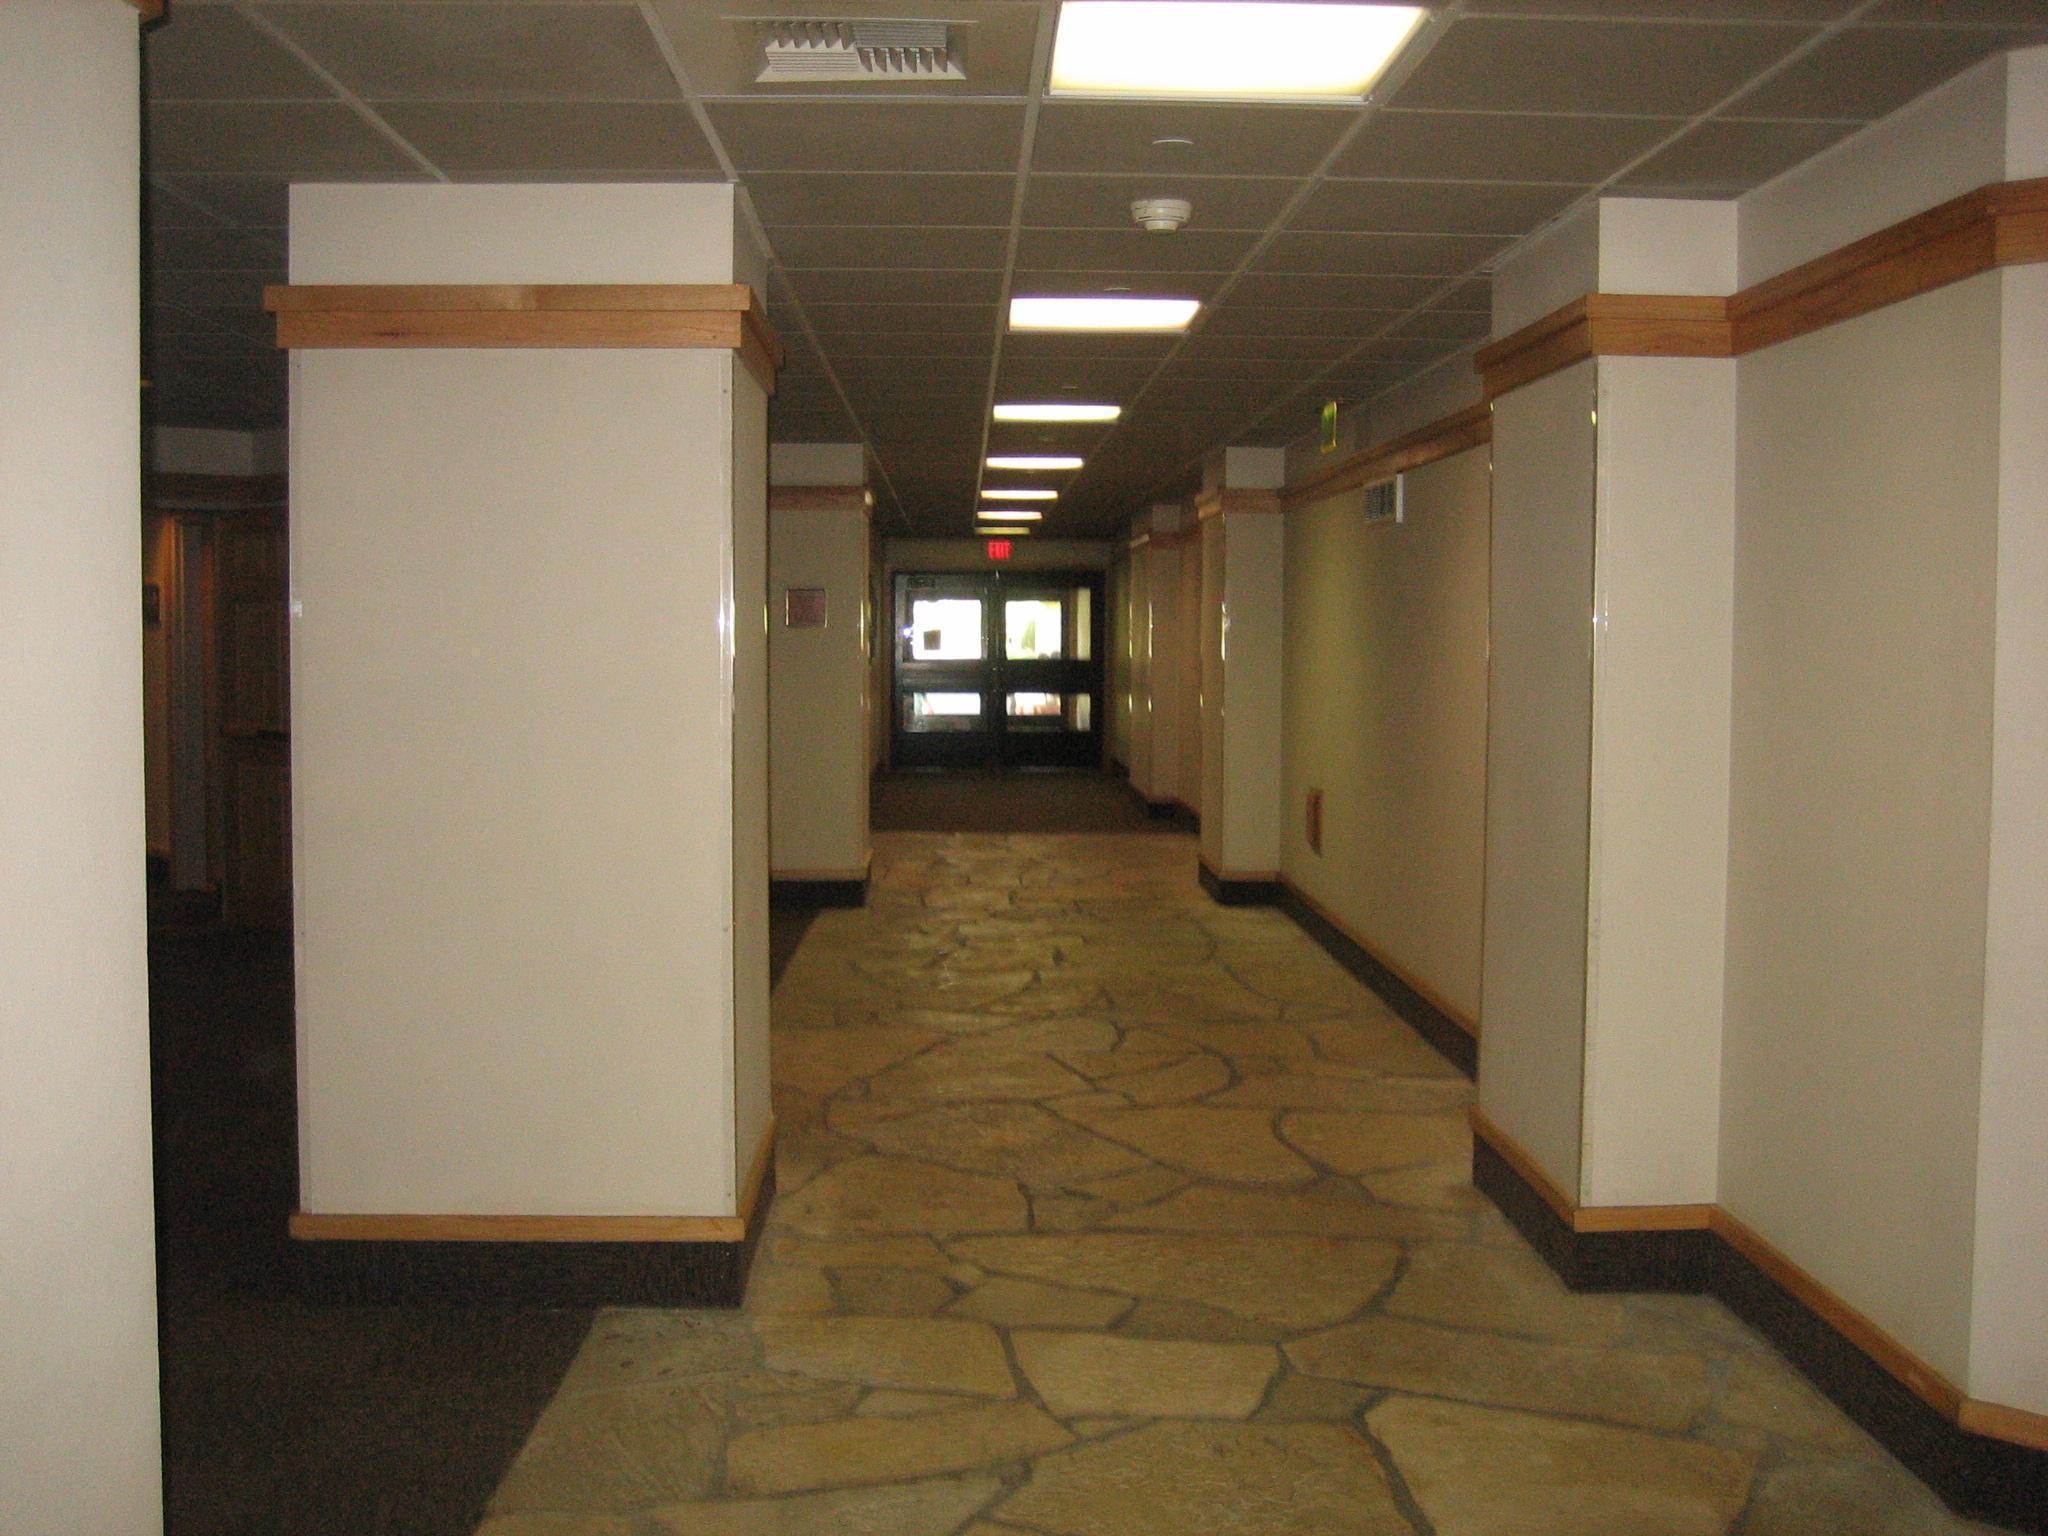Puerta: (897, 578, 1105, 770)
